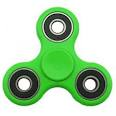fidget_spinner: (0, 2, 113, 109)
